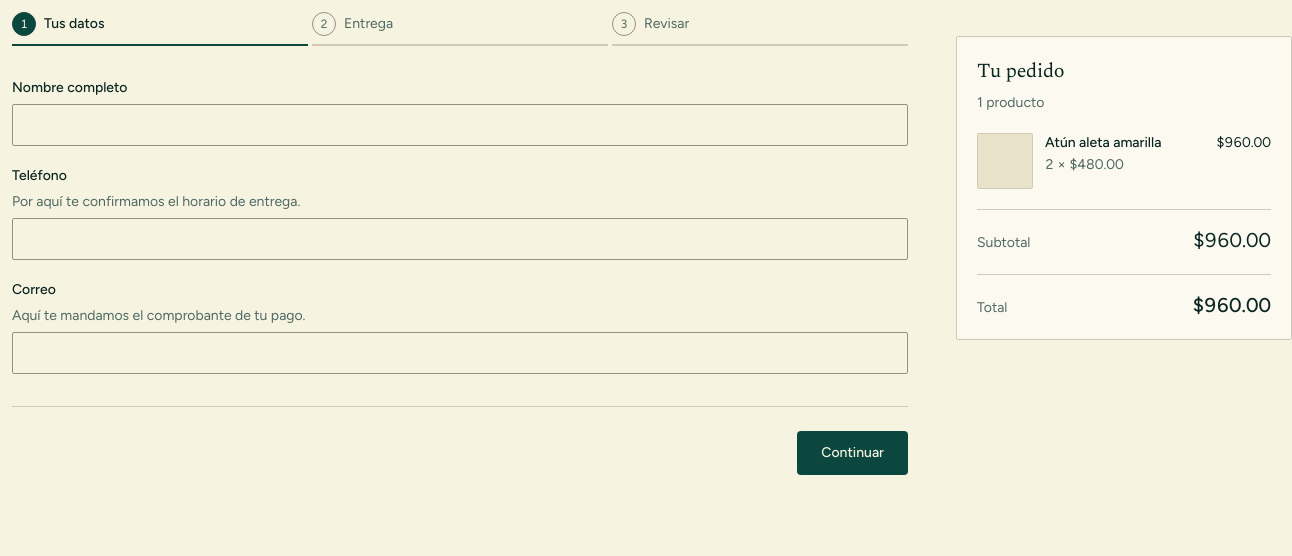
Scenario: avanzar entre pasos › con los datos completos llega hasta revisar
This screenshot has width=1292, height=556.
Type "Ana Torres" into the field labelled "Nombre completo" at {"x": 460, "y": 125}, box [12,104,908,146]
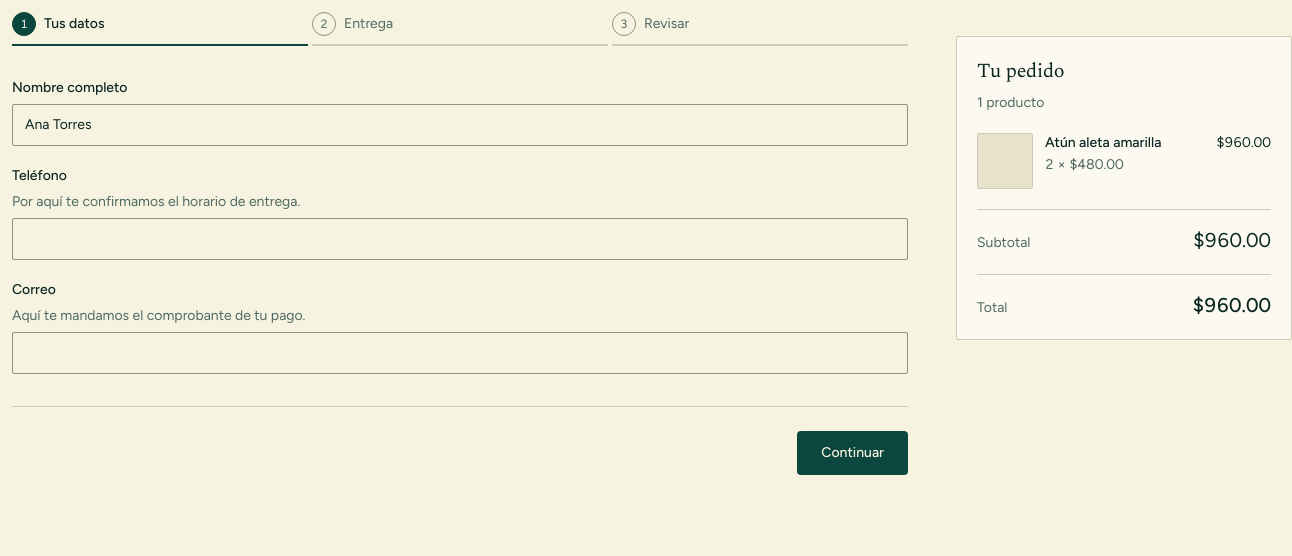
Type "8112345678" into the field labelled "Teléfono" at {"x": 460, "y": 239}, box [12,218,908,260]
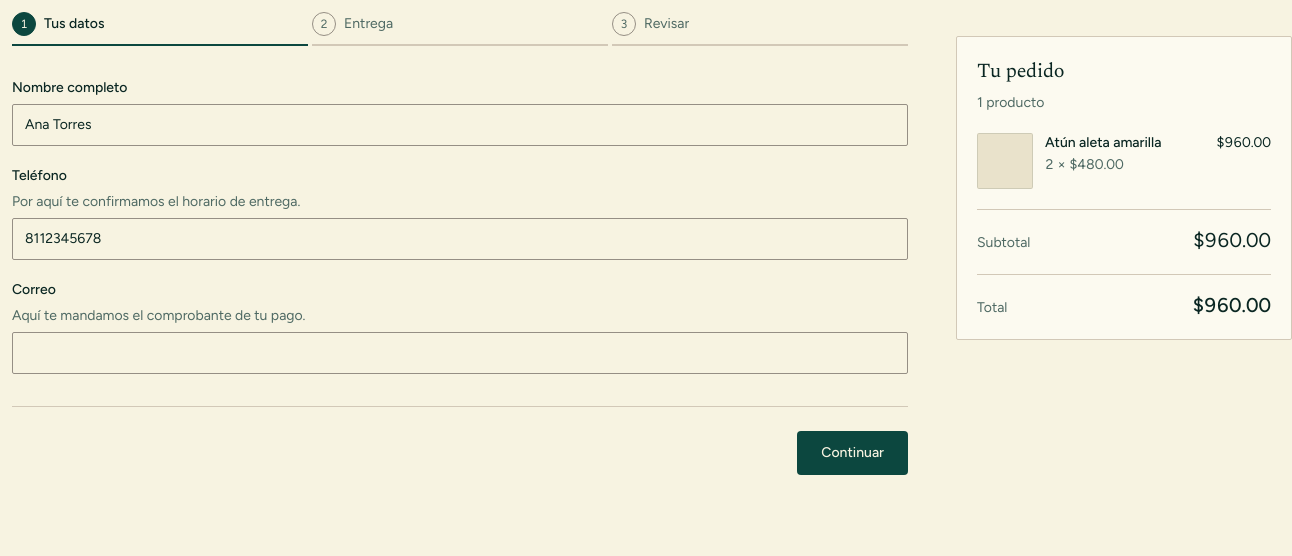
Type "ana@example.com" into the field labelled "Correo" at {"x": 460, "y": 353}, box [12,332,908,374]
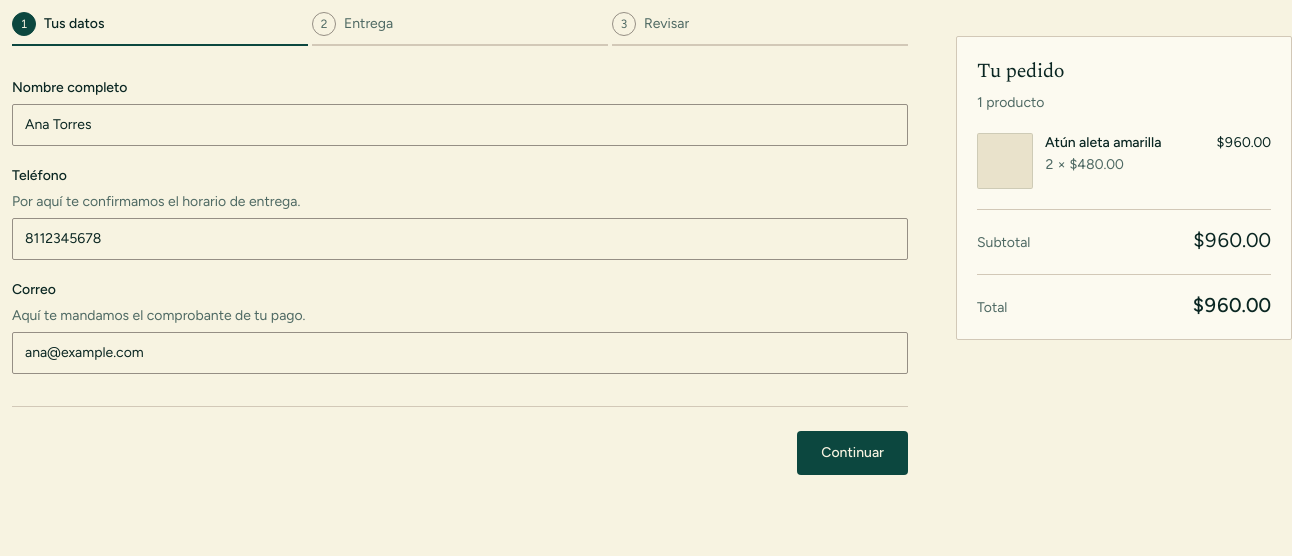
Click the button "Continuar" at {"x": 853, "y": 453}, box [797,431,908,475]
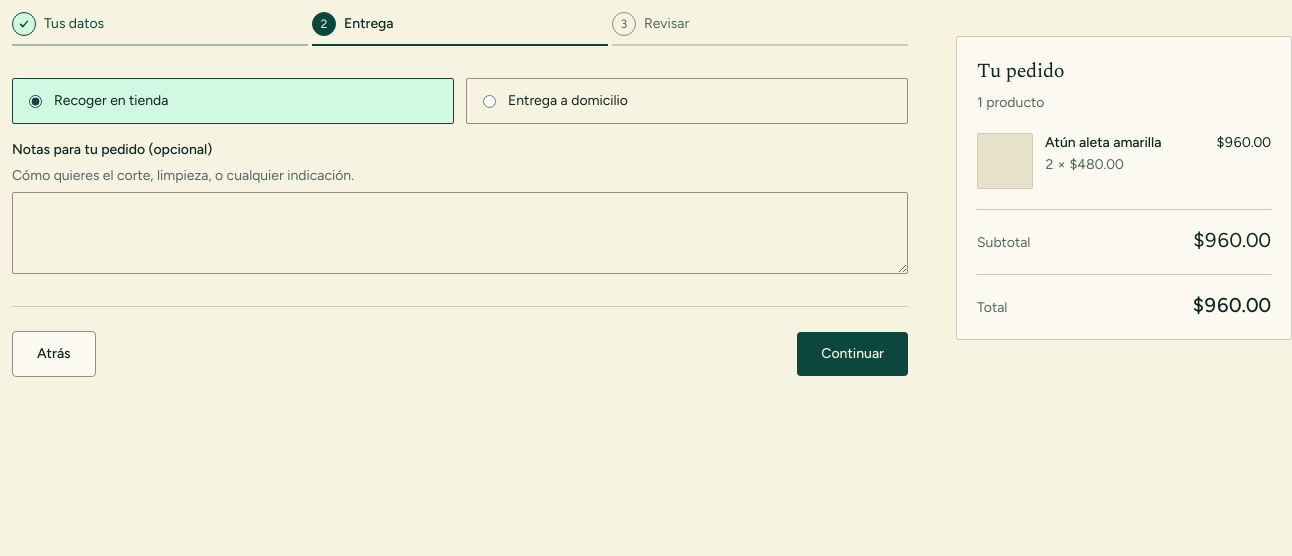
Click the button "Continuar" at {"x": 853, "y": 354}, box [797,332,908,376]
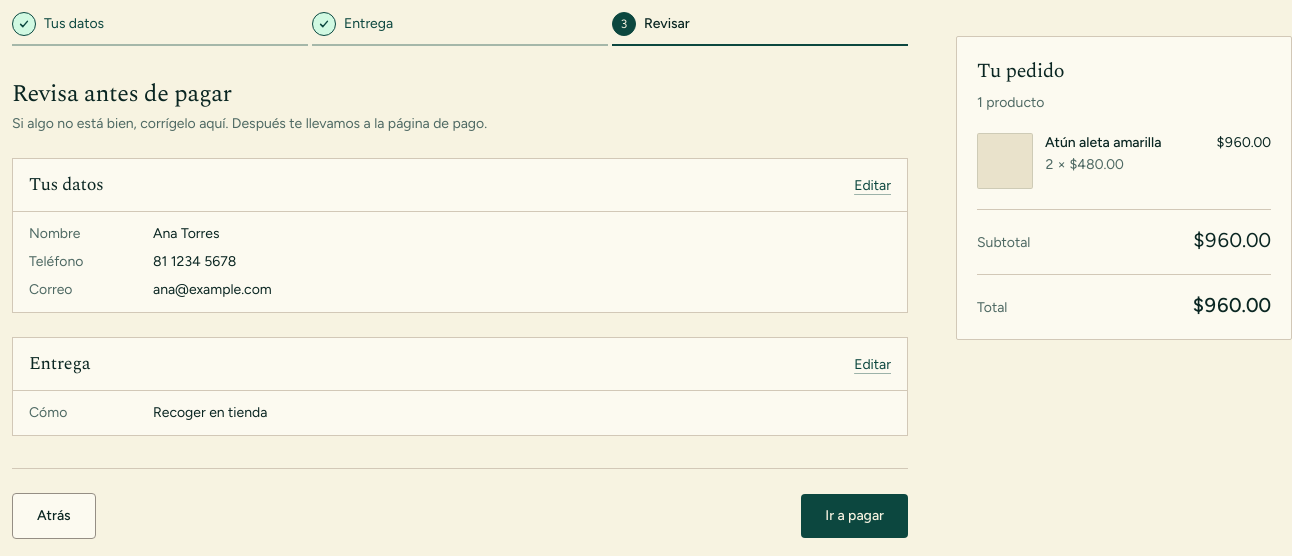
Result: the heading "Revisa antes de pagar" is shown at [12,76,232,112]
Result: the button "Ir a pagar" is shown at [801,494,908,538]
